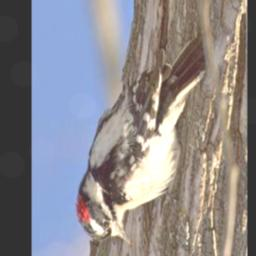Woodpecker: (74, 33, 205, 245)
